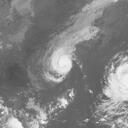cyclone: (43, 47, 74, 83), (103, 61, 127, 103)
